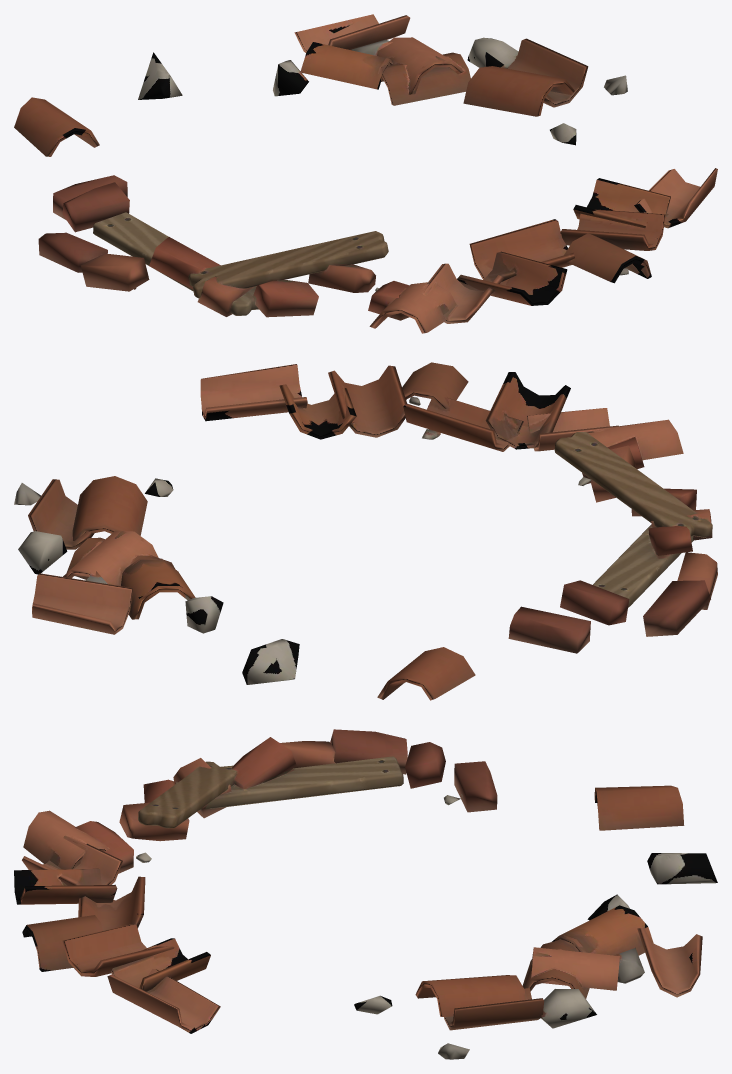
File: rough-town-1.hq.glb
The picture shows the model from 3 angles, top to bottom: view 1: azimuth 30°, elevation 25°; view 2: azimuth 150°, elevation 25°; view 3: azimuth 270°, elevation 25°; orthographic projection. The views are drawn at different scales.
Visible parts, largest first — view 1: rough-town-1; view 2: rough-town-1; view 3: rough-town-1.
Part boxes in pixels (left/top/right/bottom): rough-town-1: left=14, top=14, right=717, bottom=333; rough-town-1: left=14, top=362, right=717, bottom=700; rough-town-1: left=14, top=729, right=717, bottom=1059.
Bounding box in the file's own units: 1.55 × 0.1431 × 1.51.
1 material, 1 textured.
